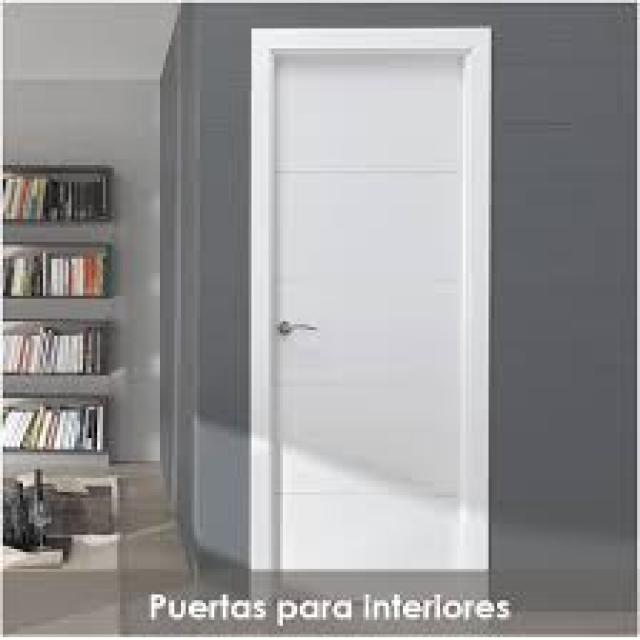door: (250, 27, 490, 576)
